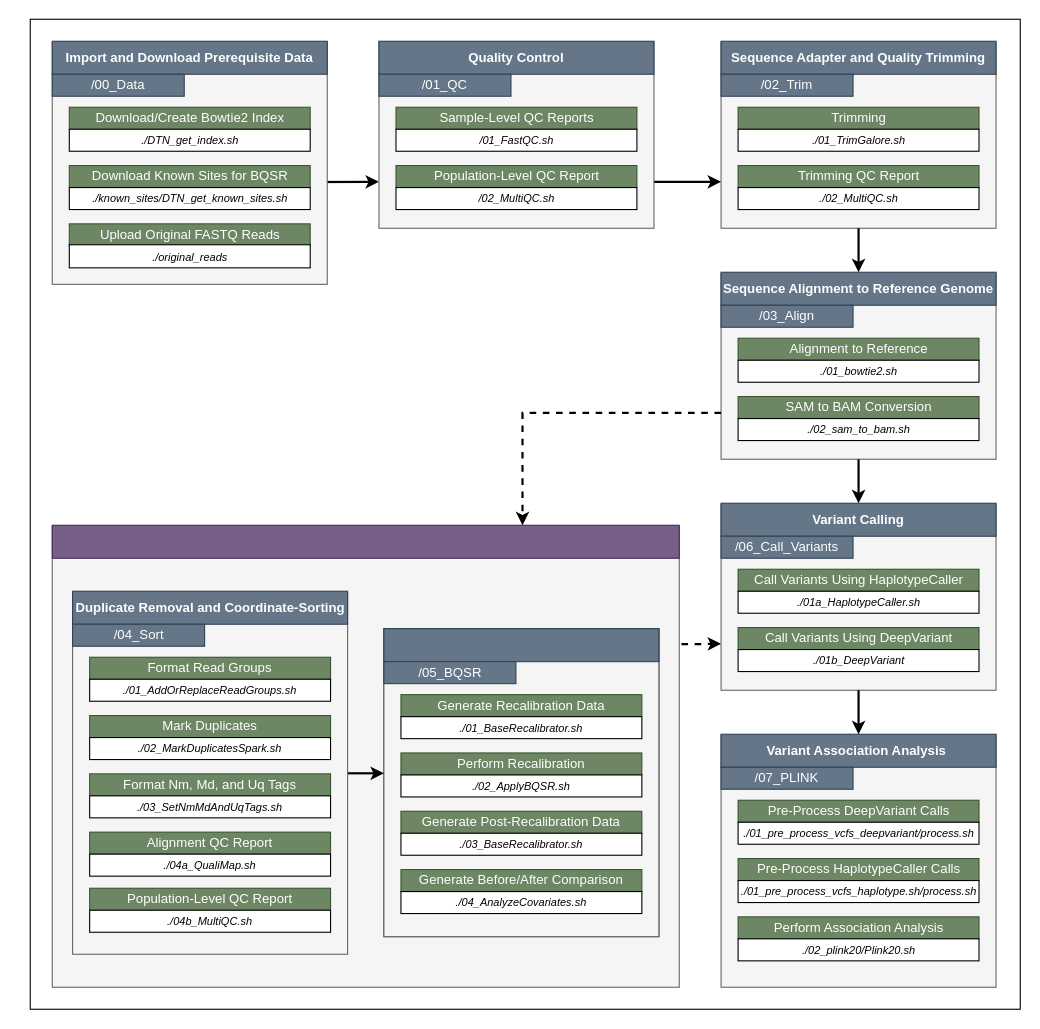
The diagram is 1040 pixels wide and 1029 high, and some of its shapes have lost their labels. The centre of each missing label's shape, as x and y in pixels:
Base Quality Score Recalibration (BQSR): the point at 521,645
Optional Processing for Analysis with GATK Tools: the point at 365,541
